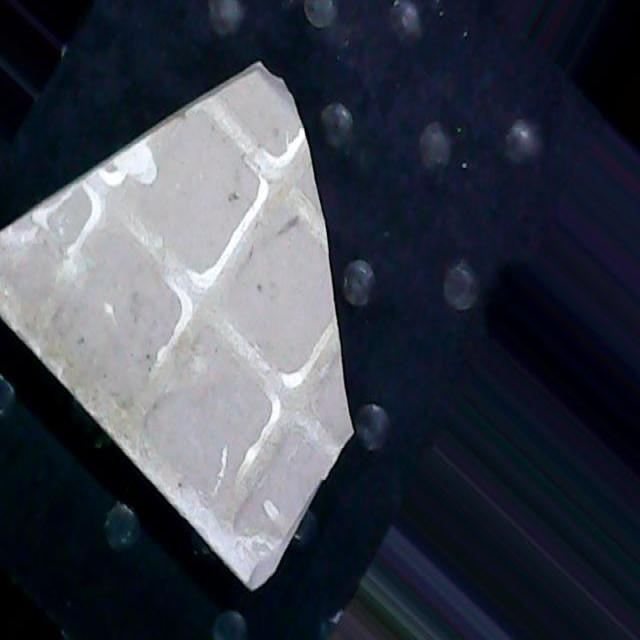-Other waste - ceramic-: (5, 61, 349, 572)
